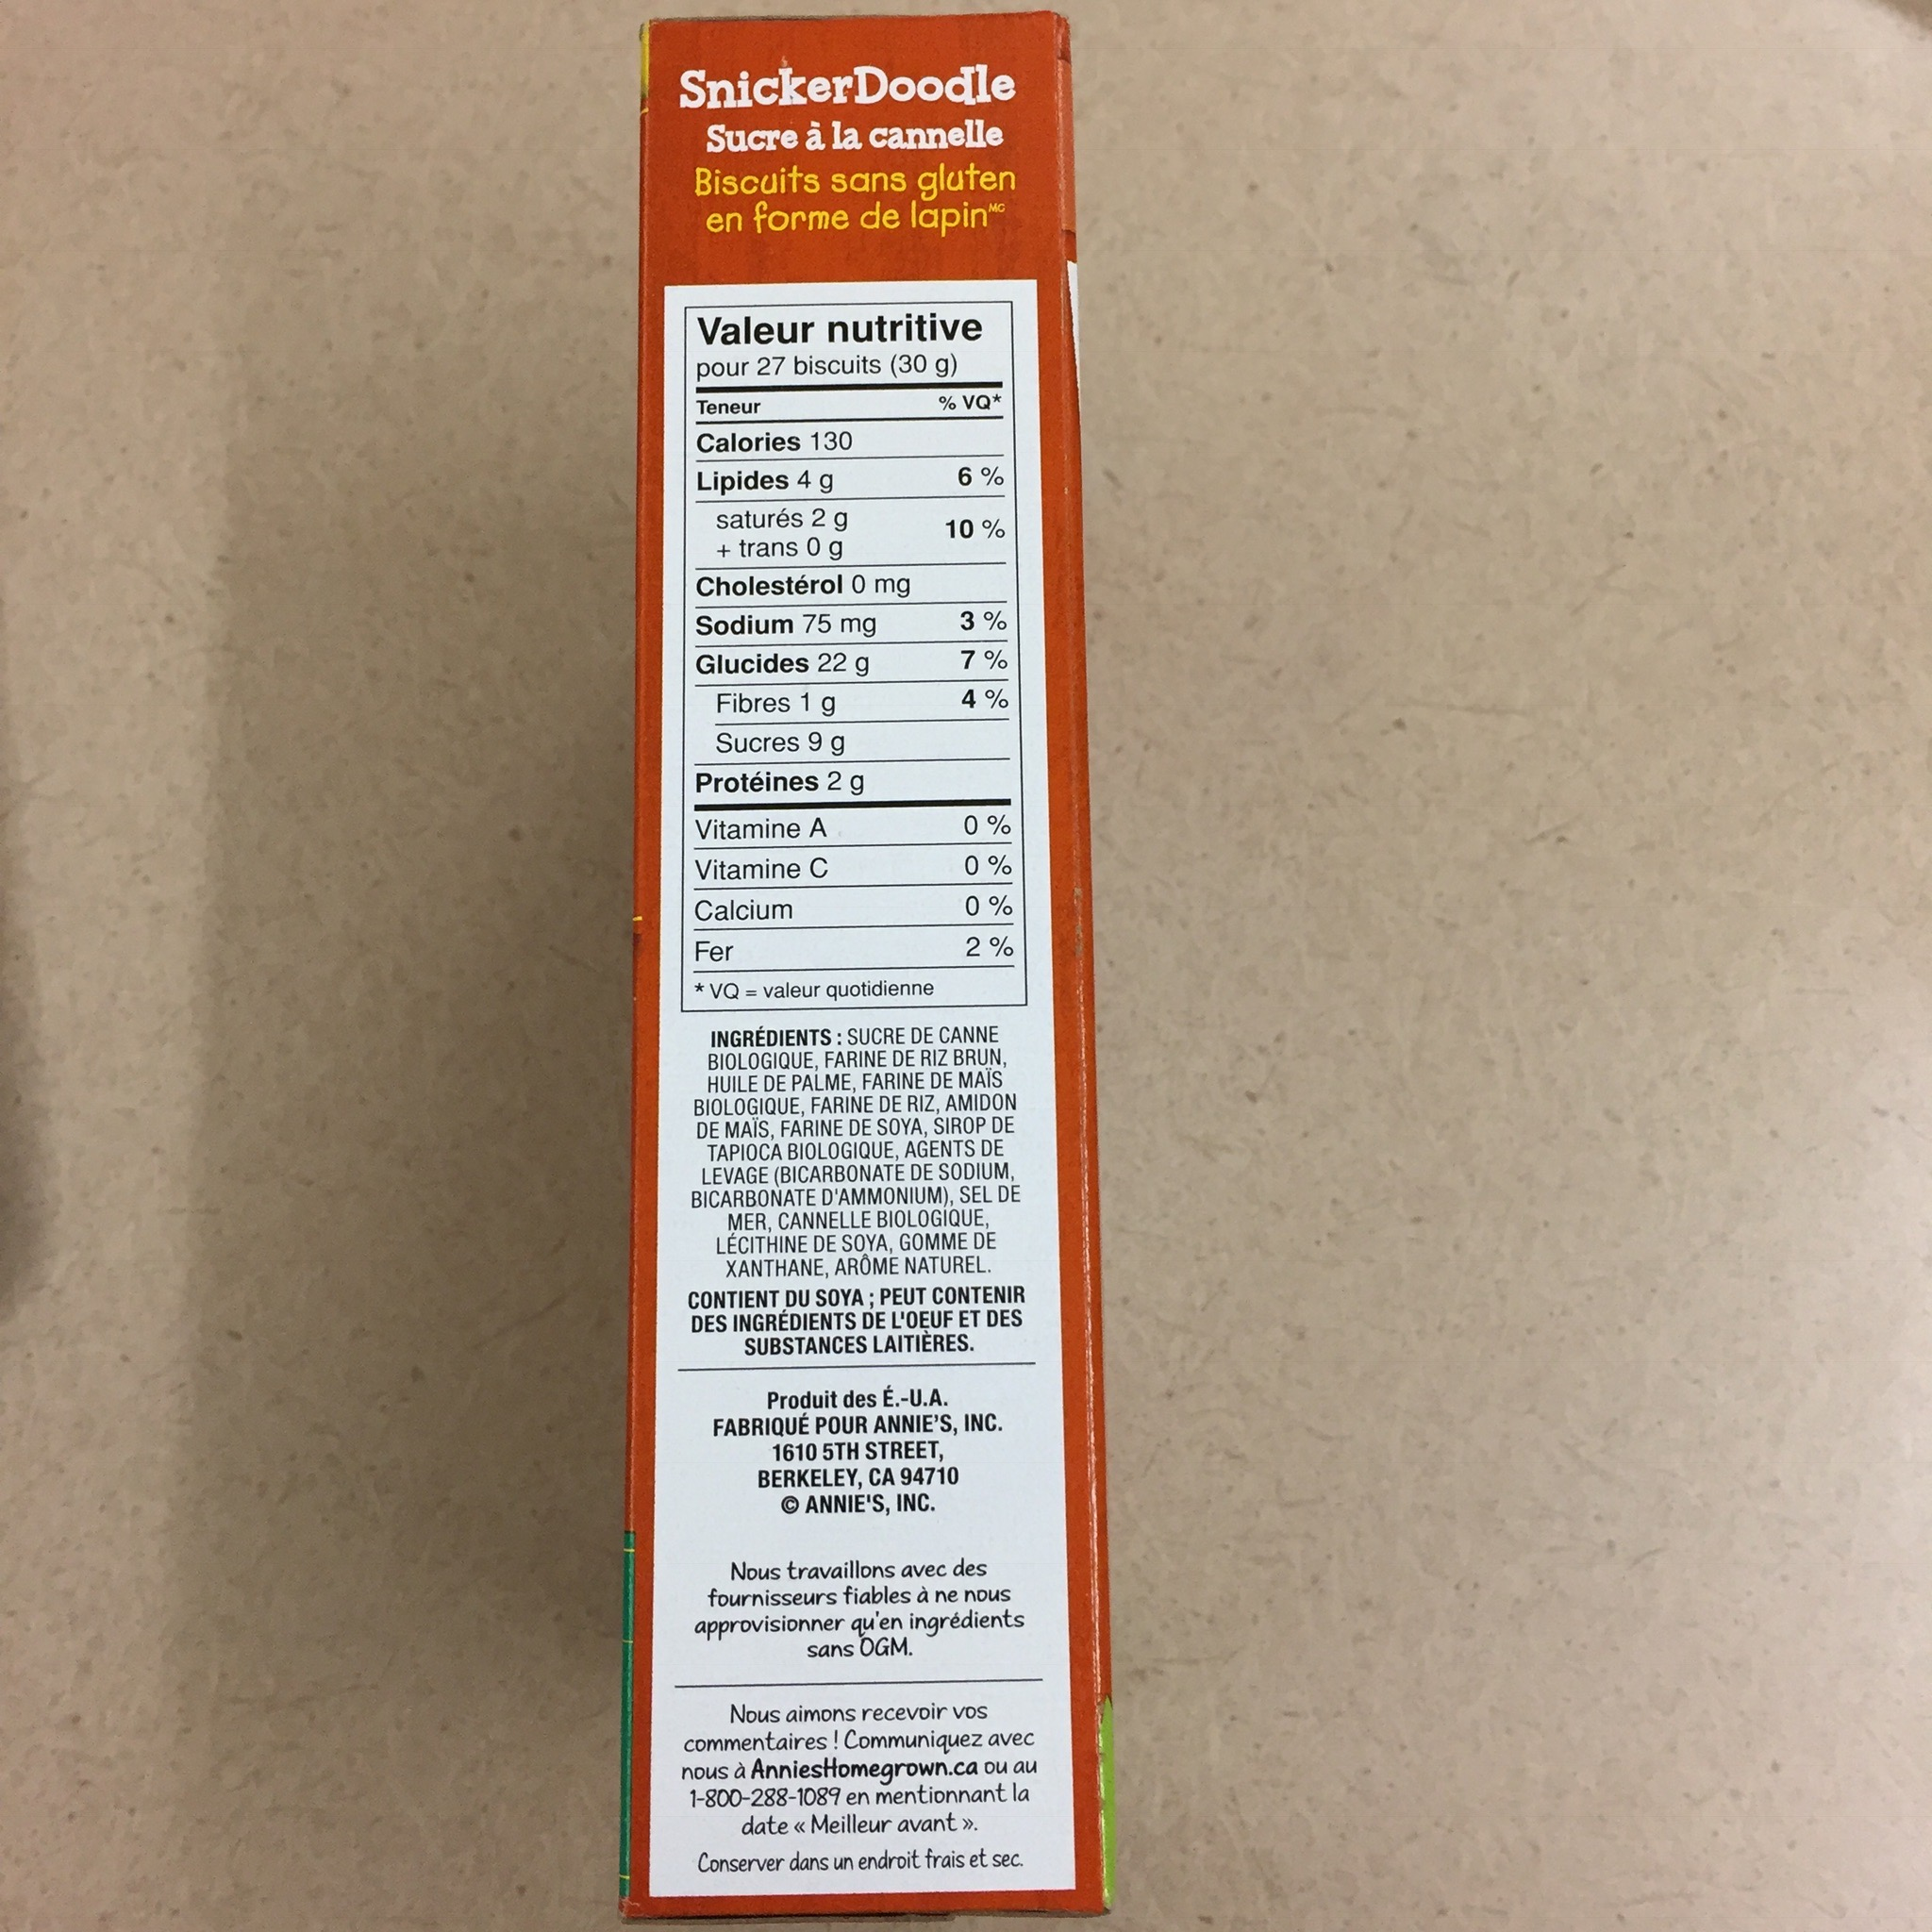annies_snickerdoodle_cinnamon_sugar: (616, 9, 1118, 1928)
